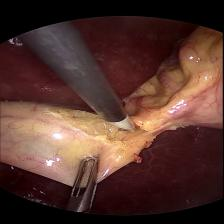Grasper: (62, 155, 112, 203)
Hook: (102, 112, 144, 132)
